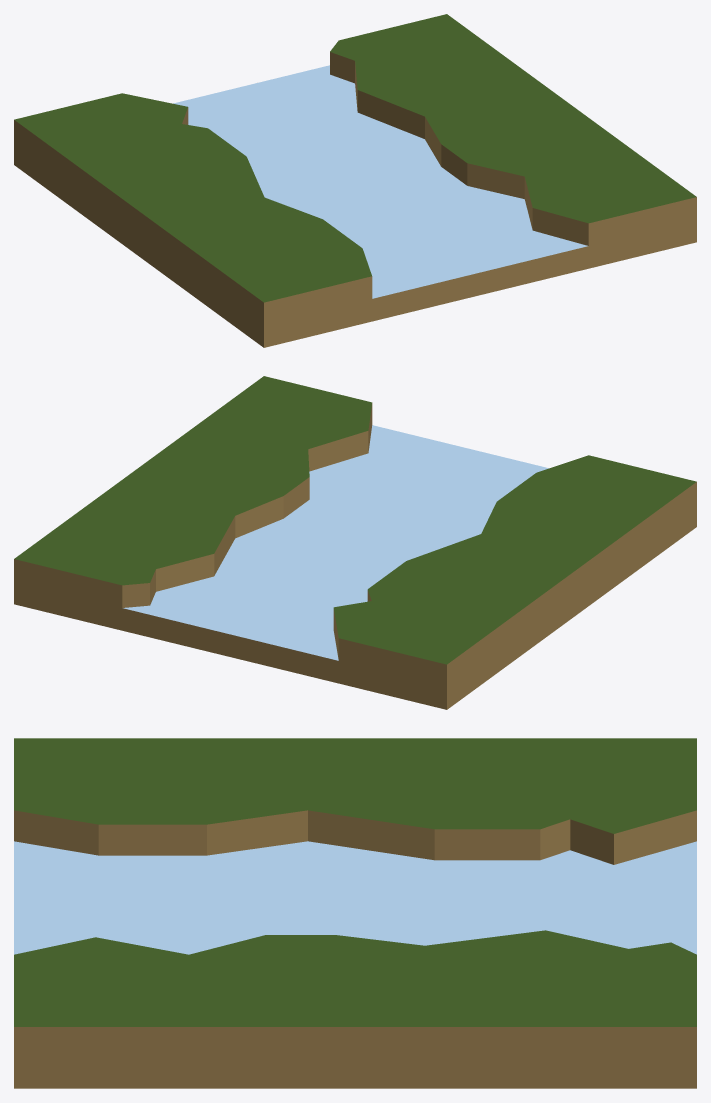
The model's file is Terrain_Modular_Tiles_Grass_Dirt_River_Straight_01.fbx.
3 renders of one model, top to bottom at view 1: azimuth 30°, elevation 25°; view 2: azimuth 150°, elevation 25°; view 3: azimuth 270°, elevation 25°, orthographic. The views are drawn at different scales.
Visible parts, largest first — view 1: Terrain_Modular_Tiles_Grass_Dirt_River_Straight_01; view 2: Terrain_Modular_Tiles_Grass_Dirt_River_Straight_01; view 3: Terrain_Modular_Tiles_Grass_Dirt_River_Straight_01.
Boxes of the visible parts, bbox=[...] form: Terrain_Modular_Tiles_Grass_Dirt_River_Straight_01: bbox=[14, 14, 696, 347]; Terrain_Modular_Tiles_Grass_Dirt_River_Straight_01: bbox=[14, 376, 696, 709]; Terrain_Modular_Tiles_Grass_Dirt_River_Straight_01: bbox=[14, 738, 696, 1088].
Bounding box in the file's own units: 3000 × 300 × 3000.
